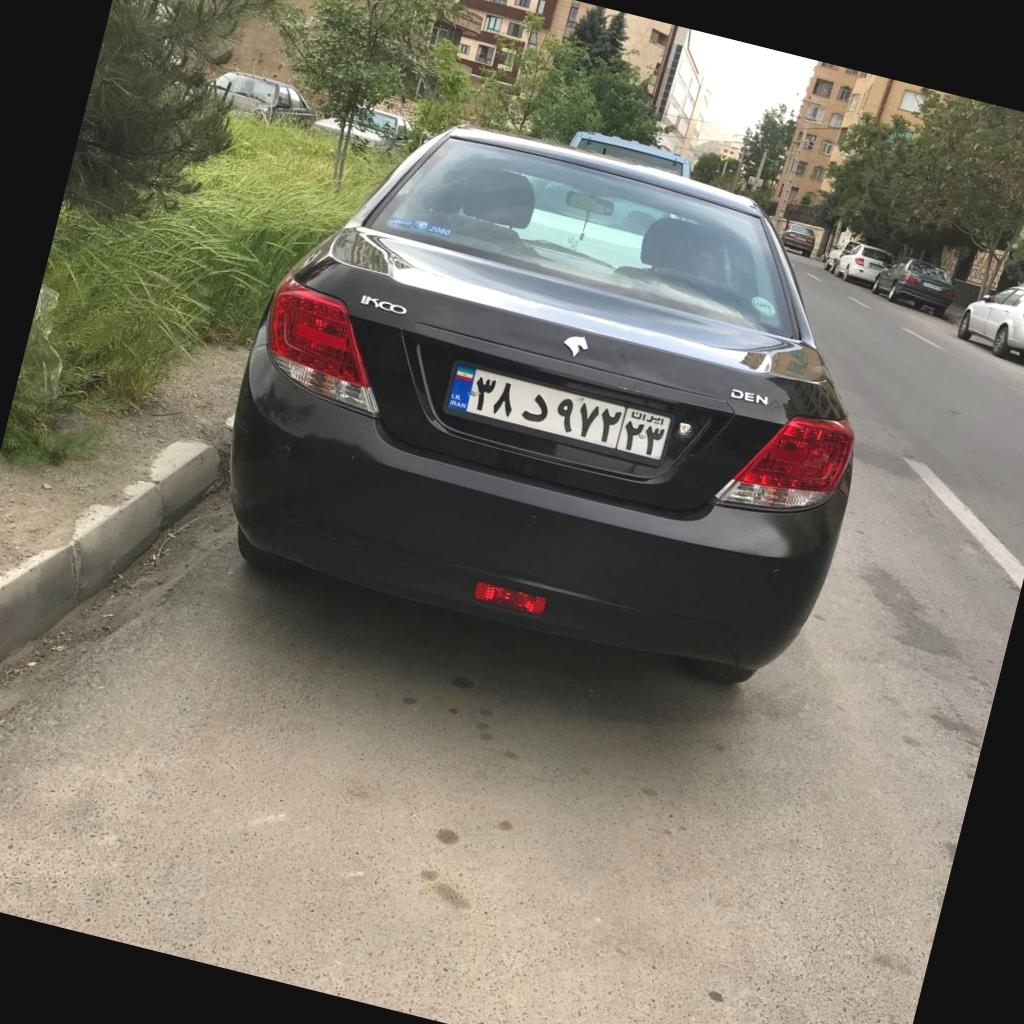Plates: (446, 364, 670, 459)
